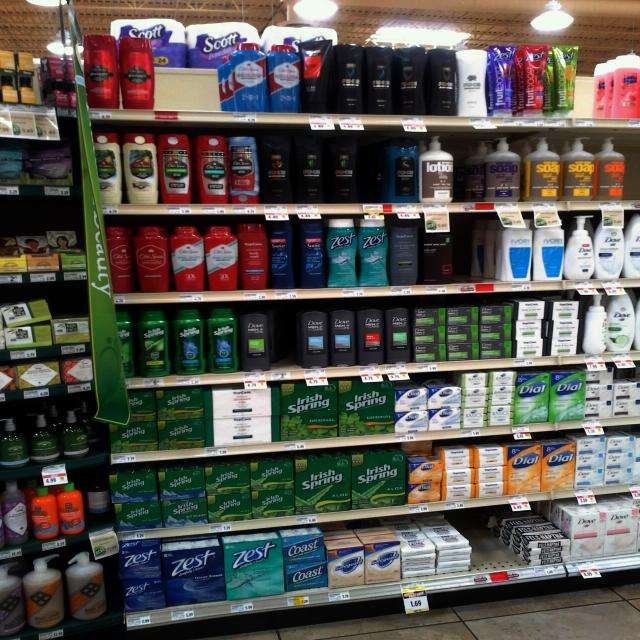empty_space: (455, 223, 484, 279), (273, 314, 303, 367), (474, 518, 502, 570)
